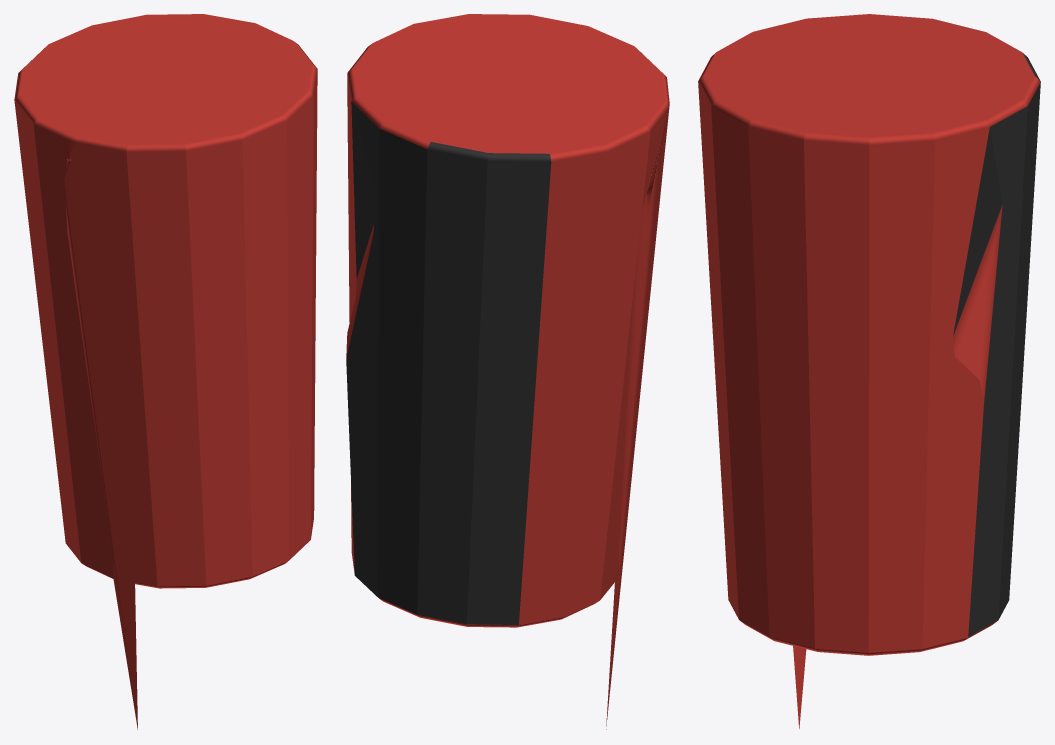
File: SM_SB_Armor_thigh_l.fbx
3 views of the same model, side by side, from view 1: azimuth 30°, elevation 25°; view 2: azimuth 150°, elevation 25°; view 3: azimuth 270°, elevation 25° (orthographic). The views are drawn at different scales.
Parts seen in each view (by area): view 1: SM_SB_Armor_thigh_l; view 2: SM_SB_Armor_thigh_l; view 3: SM_SB_Armor_thigh_l.
Boxes of the visible parts, x1,y1,x2,y2 form: SM_SB_Armor_thigh_l: (14, 14, 317, 729); SM_SB_Armor_thigh_l: (346, 14, 669, 729); SM_SB_Armor_thigh_l: (698, 14, 1040, 728).
Size of the model in its own units: 18.73 by 18.76 by 42.02.
